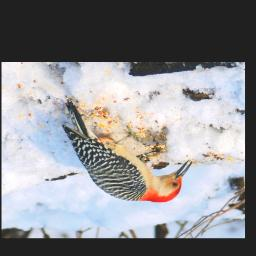Woodpecker: (59, 95, 193, 203)
